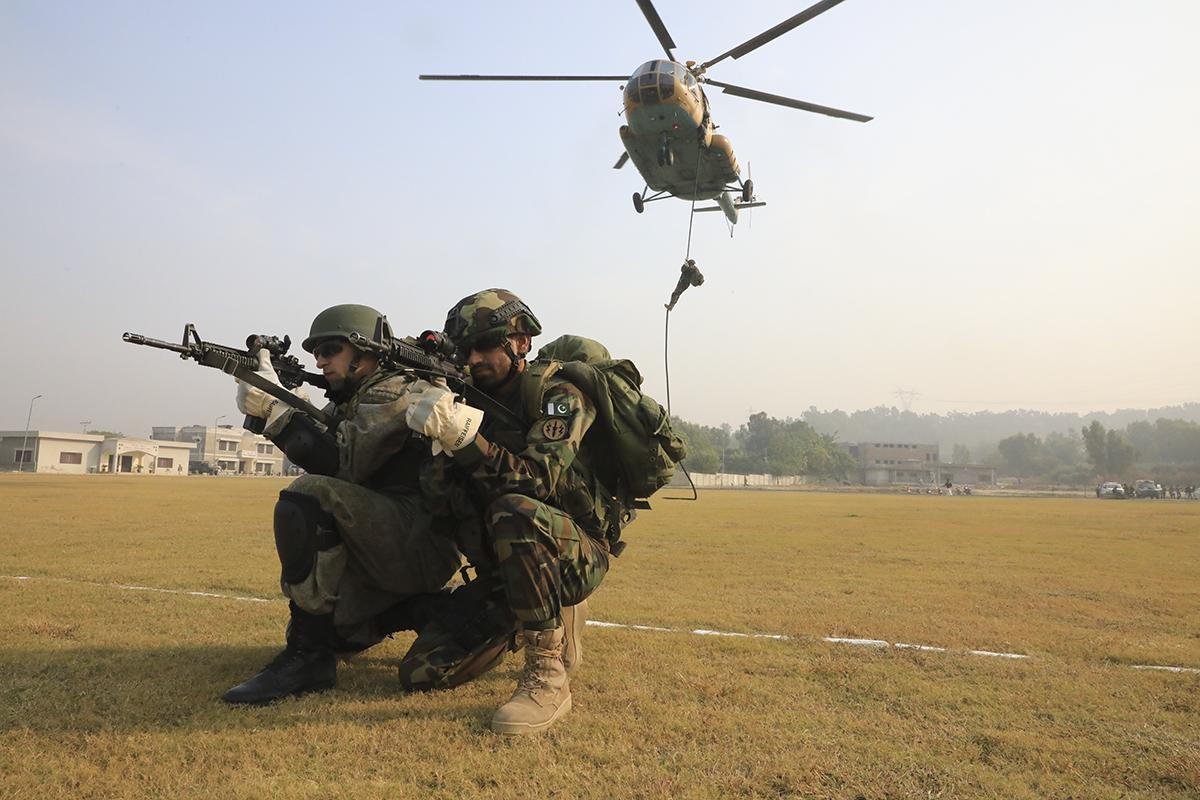person: (398, 288, 688, 739), (222, 303, 462, 708), (664, 259, 705, 311), (944, 480, 953, 496), (1168, 485, 1176, 499), (1176, 484, 1182, 500), (1096, 484, 1100, 498), (744, 476, 749, 487), (1129, 484, 1134, 493), (1162, 486, 1166, 497), (178, 464, 182, 475), (1112, 486, 1118, 493), (1124, 484, 1128, 493)
